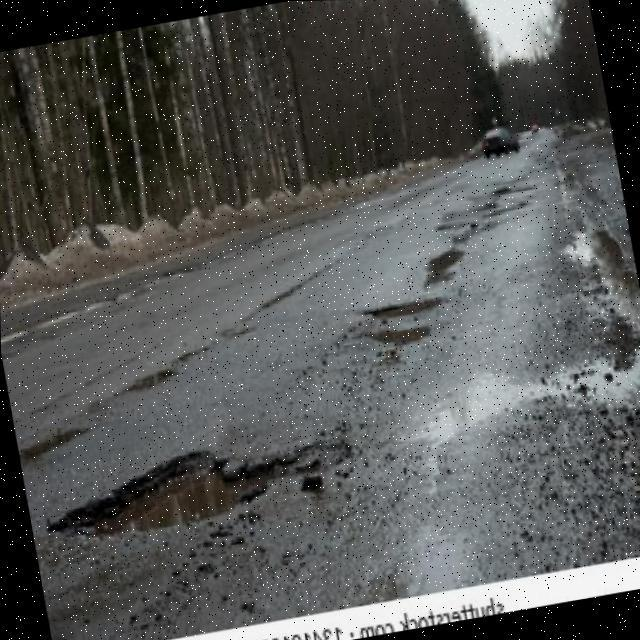Pothole: (52, 452, 320, 539)
